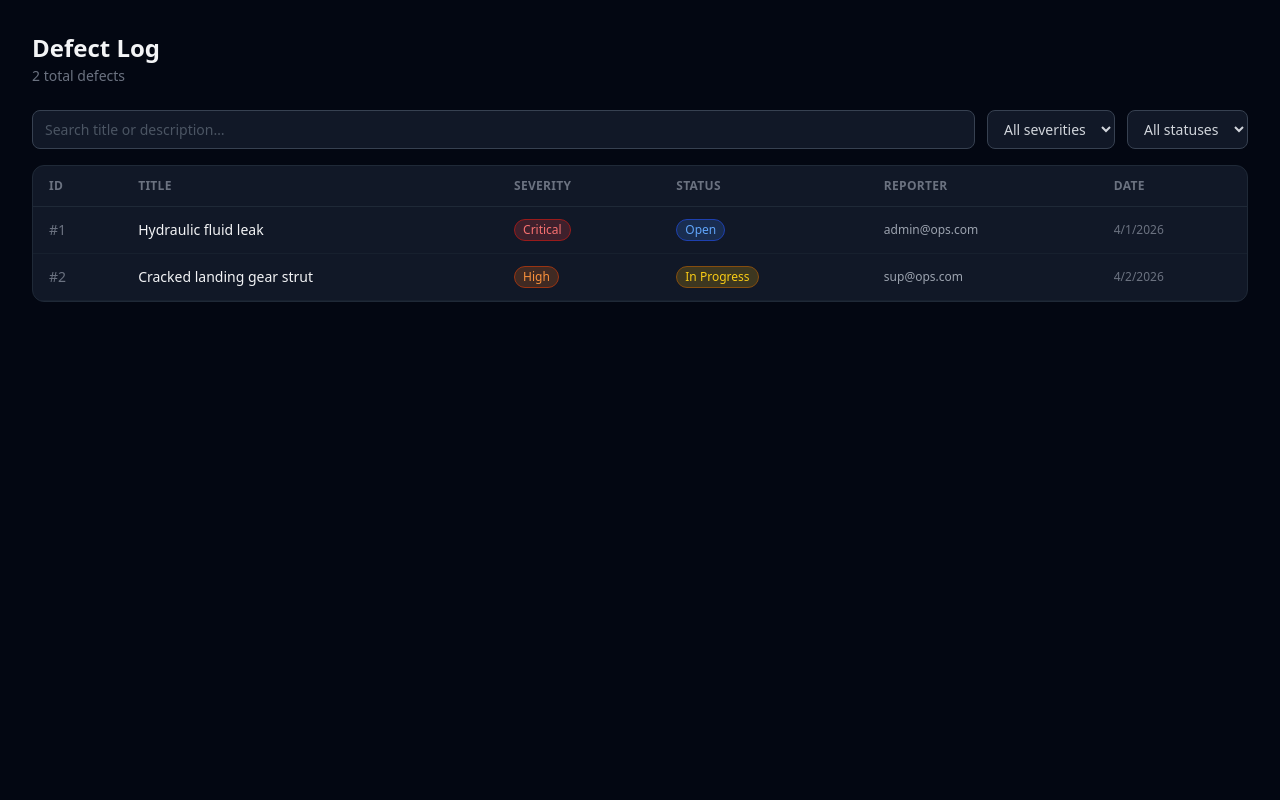
Test: DefectLog — slide-over detail panel › closes the slide-over when the × button is clicked
This screenshot has width=1280, height=800.
Click the text "Hydraulic fluid leak" at (201, 230), box [122,206,498,254]
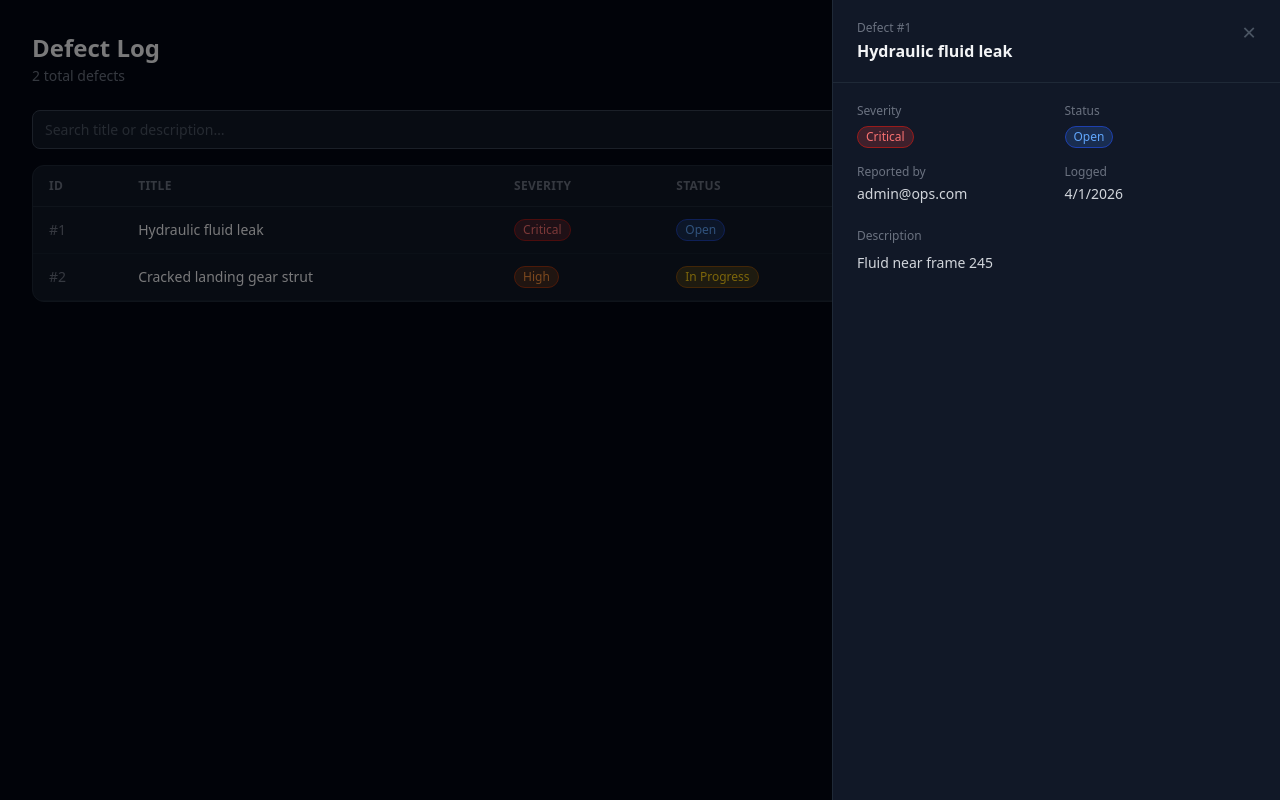
Check: the text "Fluid near frame 245" is shown, box [857,253,993,272]
Click the button named "Close" at (1249, 32), box [1242,20,1256,44]
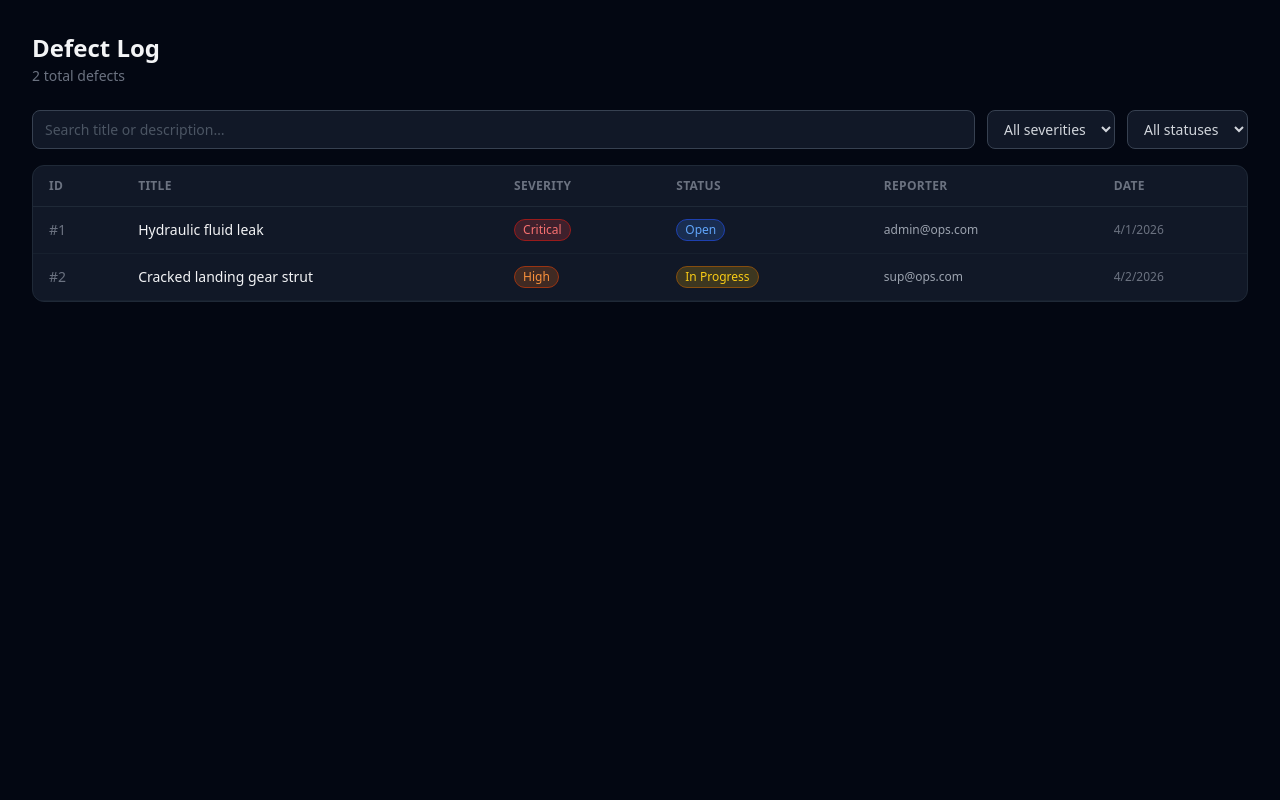
Check: the text "Fluid near frame 245" is gone
